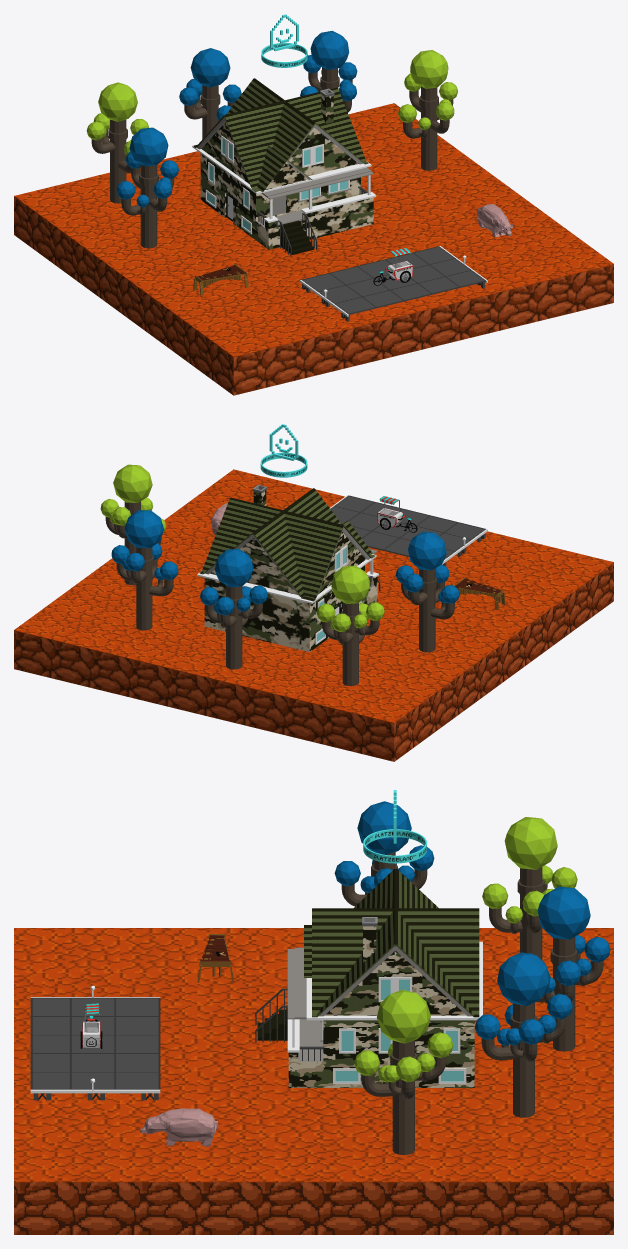
The picture shows the model from 3 angles, top to bottom: view 1: azimuth 30°, elevation 25°; view 2: azimuth 150°, elevation 25°; view 3: azimuth 270°, elevation 25°; orthographic projection. The views are drawn at different scales.
Visible parts, largest first — view 1: Cube.001, Cube.002, TYPE_PREMIUM, ANIMAL_HIPOPOTAMO, OBJRANDOM_MARIMBA, VEHICLES_SNOWBAL_BIKE; view 2: Cube.001, Cube.002, TYPE_PREMIUM, VEHICLES_SNOWBAL_BIKE, OBJRANDOM_MARIMBA; view 3: Cube.001, Cube.002, ANIMAL_HIPOPOTAMO, TYPE_PREMIUM, OBJRANDOM_MARIMBA, VEHICLES_SNOWBAL_BIKE.
Boxes of the visible parts, x1,y1,x2,y2 form: Cube.001: (14,30,613,395); Cube.002: (192,78,376,255); TYPE_PREMIUM: (261,14,307,67); ANIMAL_HIPOPOTAMO: (476,204,512,237); OBJRANDOM_MARIMBA: (193,264,248,295); VEHICLES_SNOWBAL_BIKE: (373,248,413,285); Cube.001: (14,464,613,761); Cube.002: (197,484,380,651); TYPE_PREMIUM: (260,424,307,477); VEHICLES_SNOWBAL_BIKE: (377,496,417,532); OBJRANDOM_MARIMBA: (454,577,505,610); Cube.001: (14,801,613,1234); Cube.002: (255,868,482,1087); ANIMAL_HIPOPOTAMO: (140,1108,218,1146); TYPE_PREMIUM: (363,790,426,863); OBJRANDOM_MARIMBA: (197,934,233,982); VEHICLES_SNOWBAL_BIKE: (80,1003,102,1048).
Size of the model in its own units: 4000 by 2410 by 4000.
Materials: 37 (7 with a texture image).
